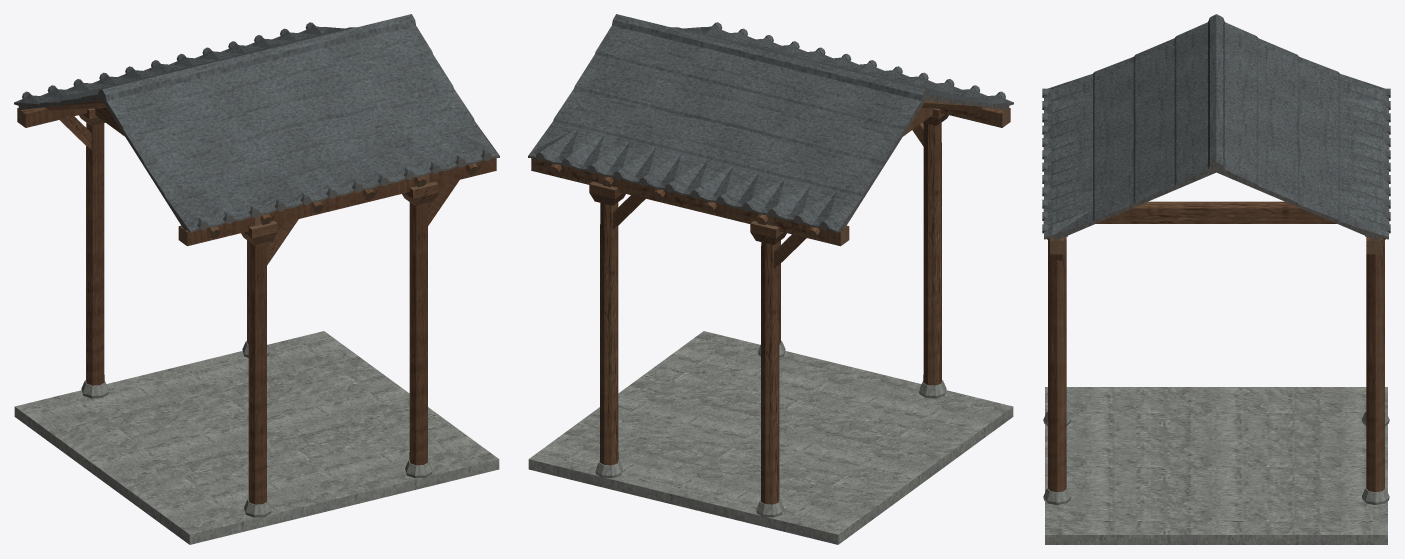
File: GalleryStraight_LOD0.fbx
The picture shows the model from 3 angles, left to right: view 1: azimuth 30°, elevation 25°; view 2: azimuth 150°, elevation 25°; view 3: azimuth 270°, elevation 25°; orthographic projection. The views are drawn at different scales.
Parts seen in each view (by area): view 1: GalleryStraight; view 2: GalleryStraight; view 3: GalleryStraight.
Boxes of the visible parts, box(x1,y1,x2,y2) form: GalleryStraight: box(14, 14, 499, 544); GalleryStraight: box(528, 14, 1013, 544); GalleryStraight: box(1042, 14, 1390, 544).
Bounding box in the file's own units: 3 × 3.62 × 2.99.
1 material, 1 textured.
